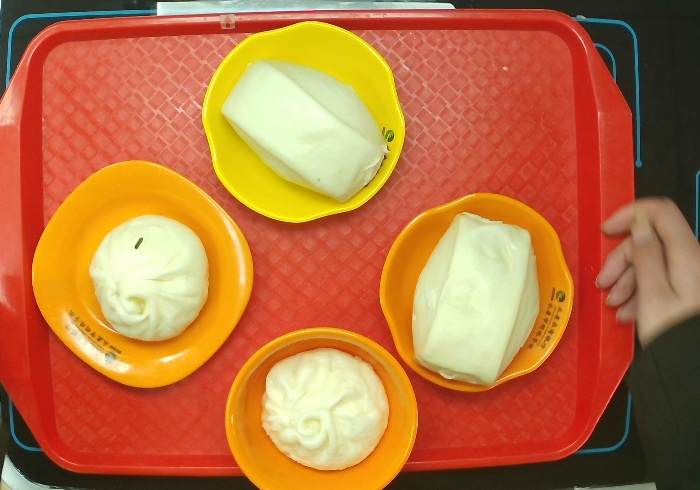YKMZ-Ju_Se_Fang_Die: (32, 161, 254, 388)
